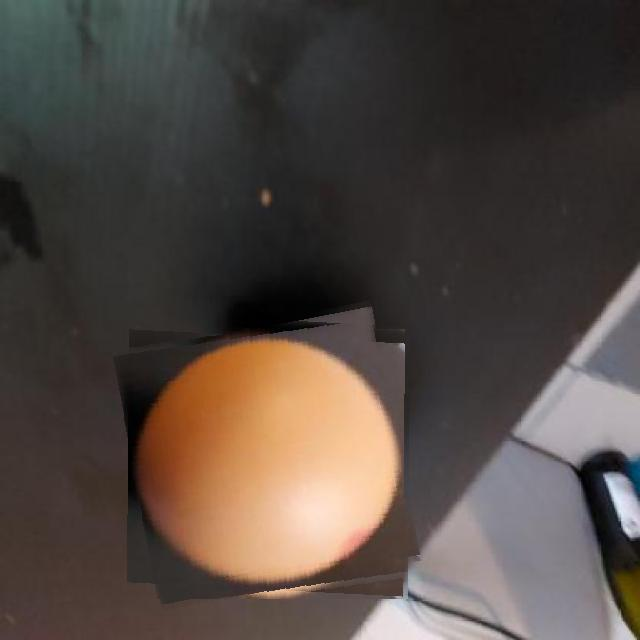biodegradable: (124, 312, 410, 599)
